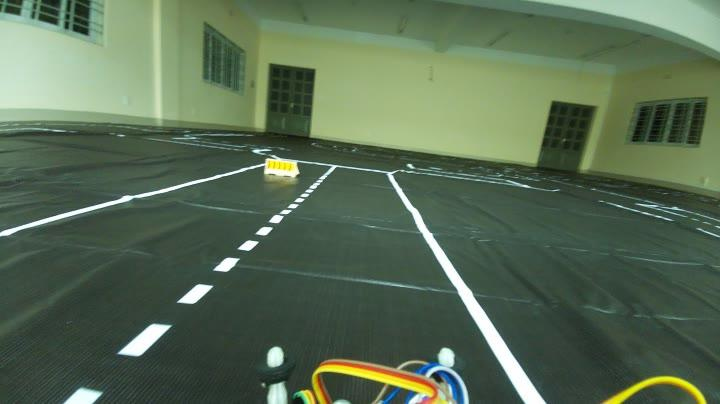roadblock: (260, 153, 300, 181)
